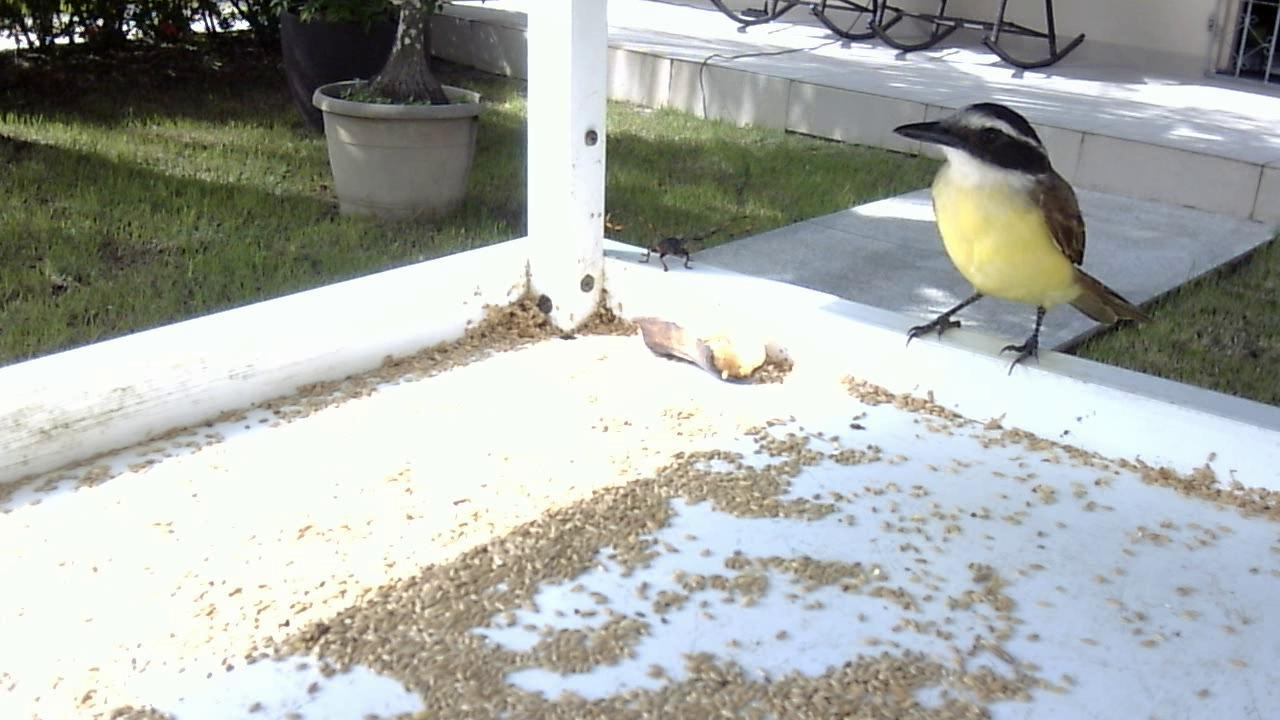bem_te_vi: (876, 96, 1150, 384)
